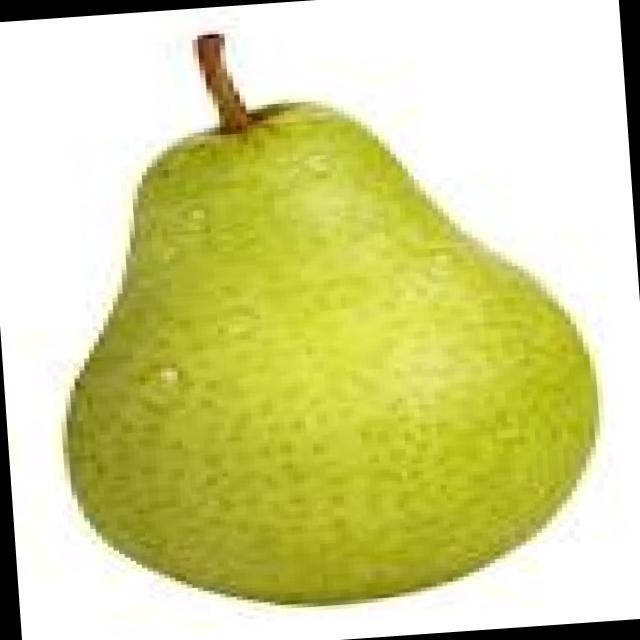Pear: (27, 0, 638, 638)
